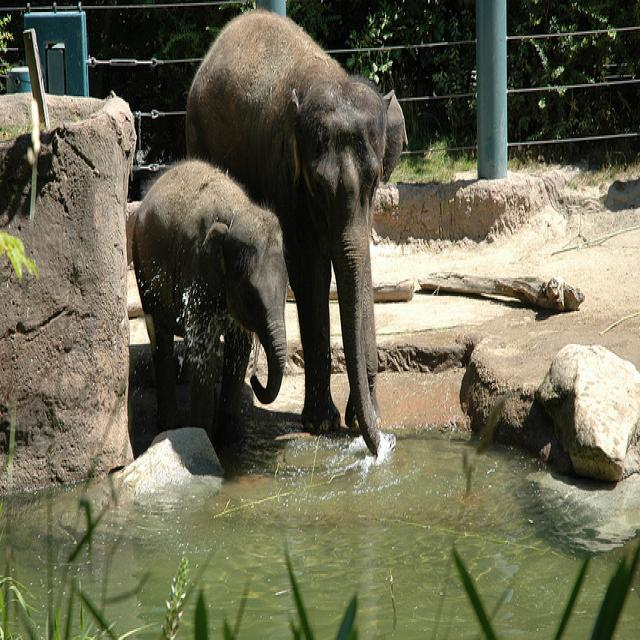Elephant: (184, 8, 408, 456), (130, 156, 288, 439)
